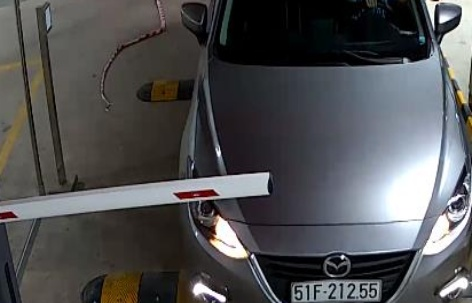plate: (286, 272, 381, 302)
